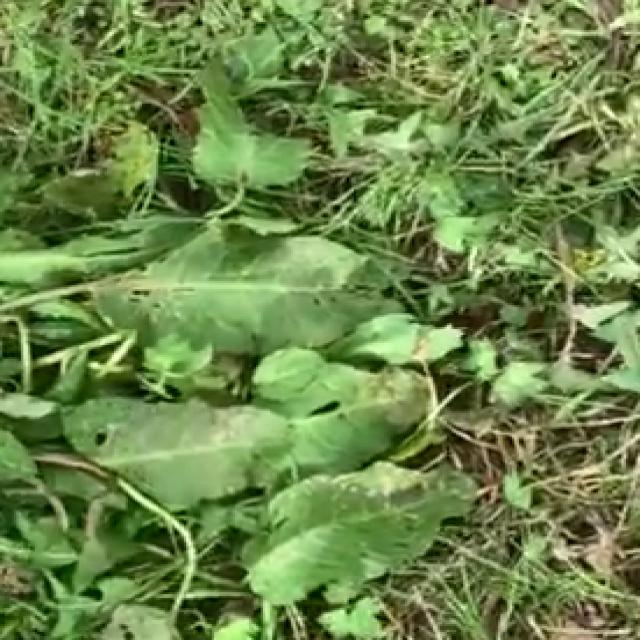organic waste: (9, 89, 490, 640)
